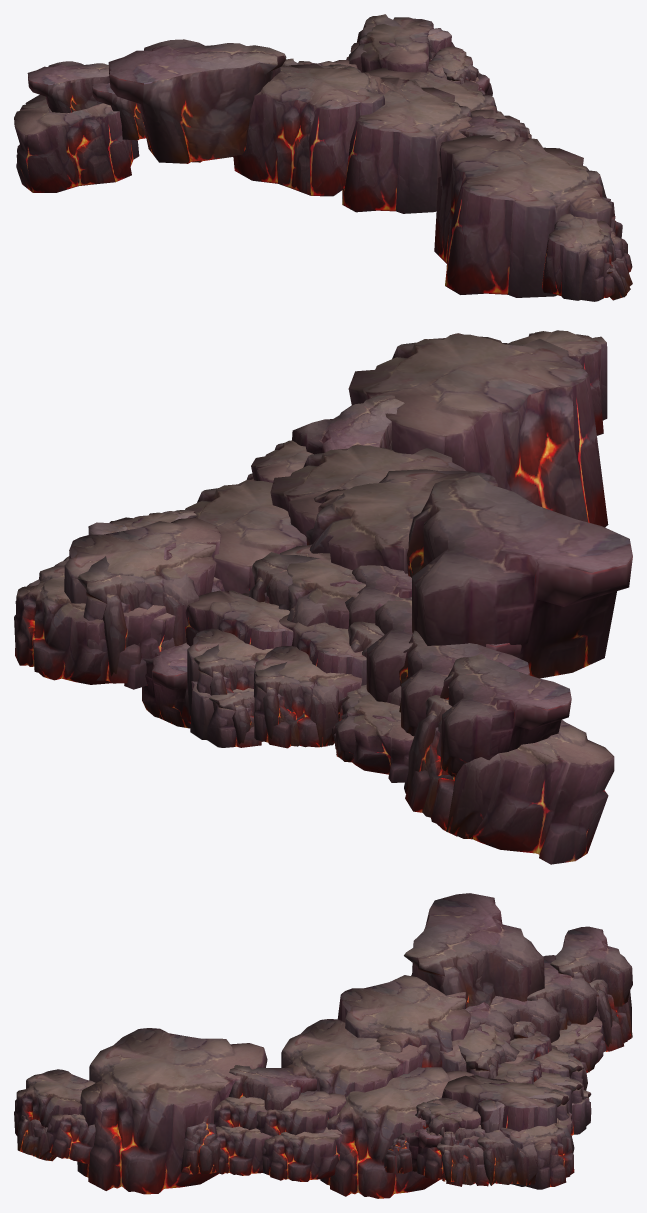
The model's file is yanshi10_1.fbx.
The picture shows the model from 3 angles, top to bottom: view 1: azimuth 30°, elevation 25°; view 2: azimuth 150°, elevation 25°; view 3: azimuth 270°, elevation 25°; orthographic projection. The views are drawn at different scales.
Visible parts, largest first — view 1: yanshi10_1; view 2: yanshi10_1; view 3: yanshi10_1.
Part boxes in pixels (x1,y1,x2,y2): yanshi10_1: (14,14,632,301); yanshi10_1: (14,330,632,864); yanshi10_1: (14,893,632,1198).
Bounding box in the file's own units: 8553 × 3036 × 11248.
